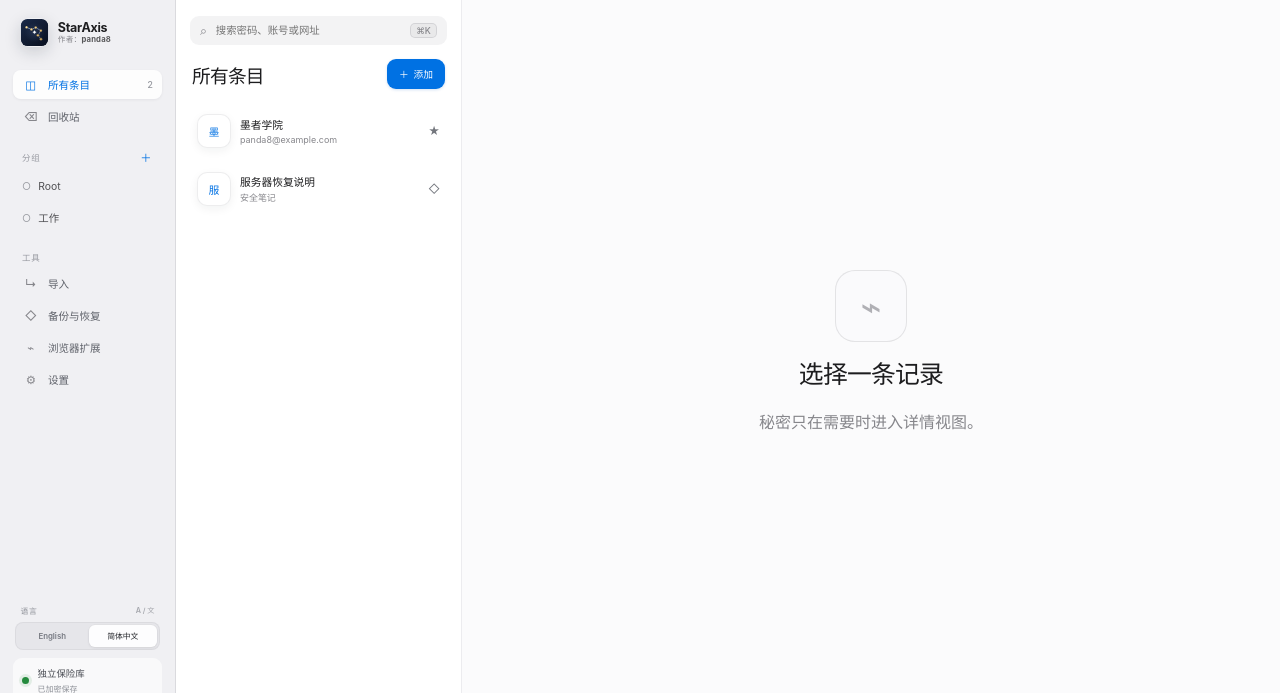
Test: E01 mist settings item editors › uses the selected settings-group layout for login and note editing only
The width and height of the screenshot is (1280, 693).
Click the button "墨 墨者学院 panda8@example.com ★". click: (214, 131)
box: [188, 102, 449, 160]
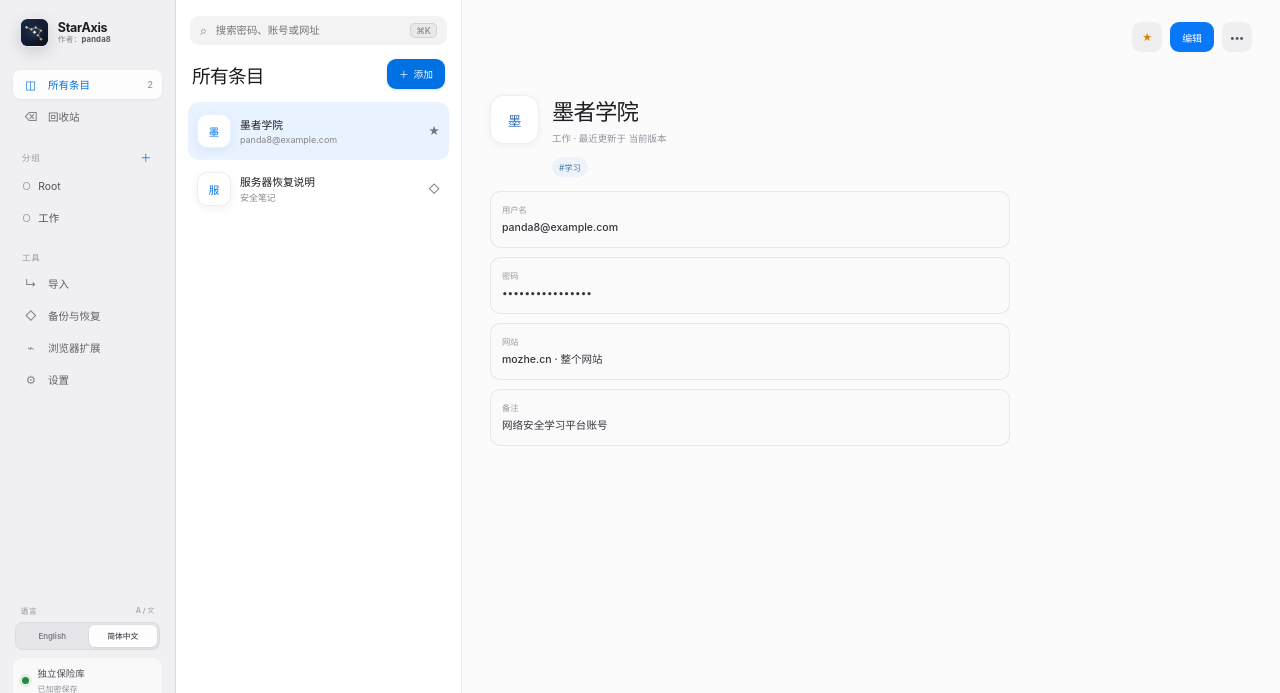
Expected: the heading "墨者学院" is shown, [552, 98, 638, 125]
Click the button "编辑". click: (1192, 37)
box: [1170, 22, 1214, 52]
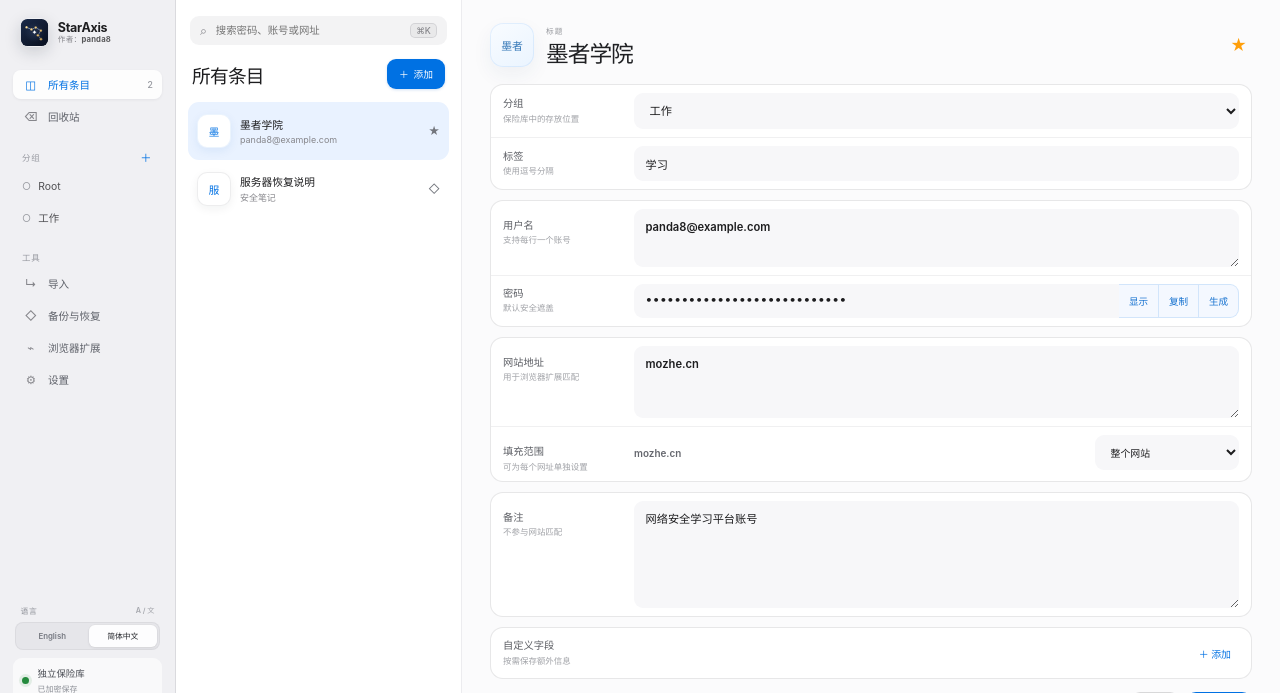
Expected: the number of elements with class "mist-setting-card" is 5, [490, 84, 1252, 190]; [490, 200, 1252, 327]; [490, 337, 1252, 482]; [490, 492, 1252, 617]; [490, 627, 1252, 679]
Expected: the text with class "mist-record-type" reads "标题", [546, 26, 563, 36]
Expected: the text "用于浏览器扩展匹配" is shown, [503, 372, 579, 382]
Click the button "服 服务器恢复说明 安全笔记 ◇". click: (214, 189)
box: [188, 160, 449, 218]
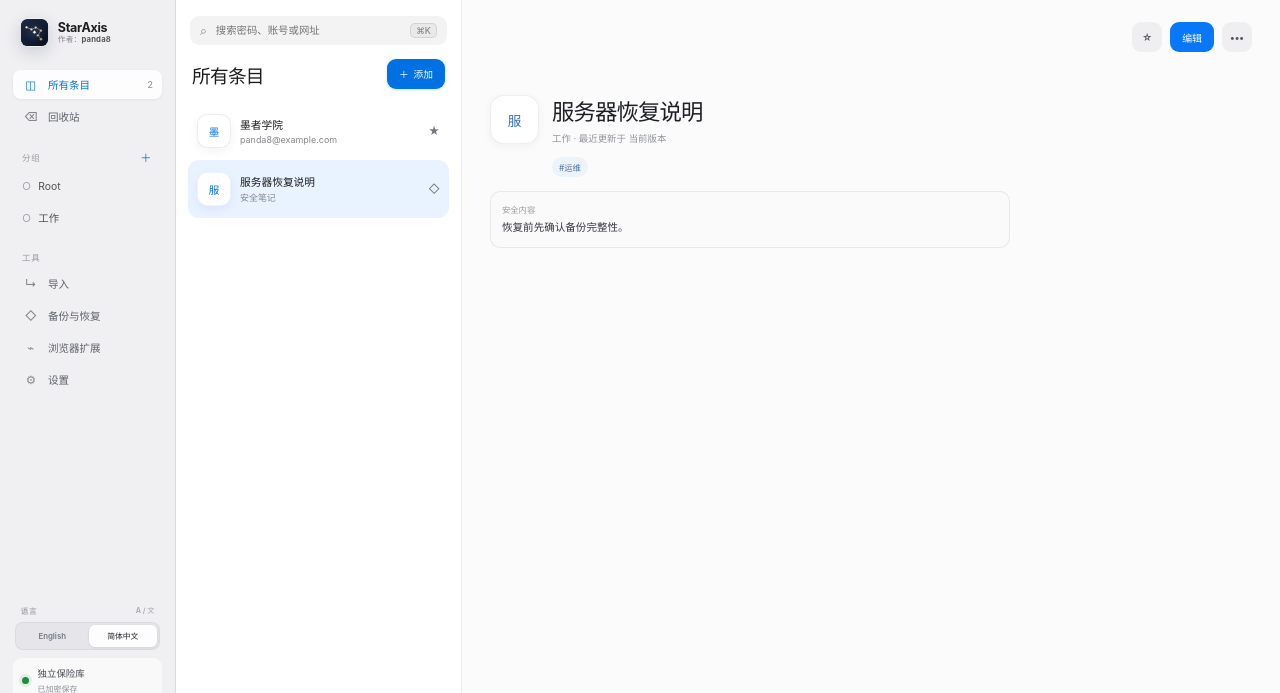
Expected: the heading "服务器恢复说明" is shown, [552, 94, 702, 126]
Click the button "编辑". click: (1192, 37)
box: [1170, 22, 1214, 52]
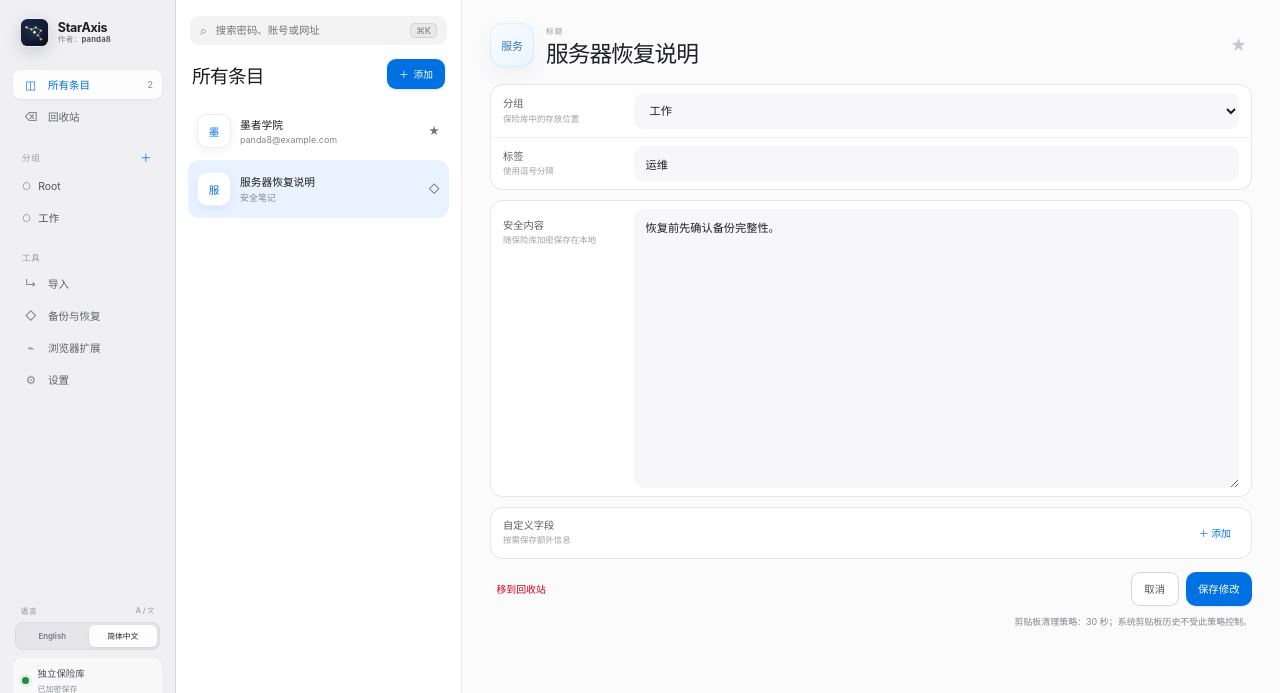
Expected: the text "随保险库加密保存在本地" is shown, [503, 235, 596, 245]
Expected: the text "安全内容 随保险库加密保存在本地" is shown, [491, 201, 1251, 496]
Expected: the text with class "mist-record-type" reads "标题", [546, 26, 563, 36]
